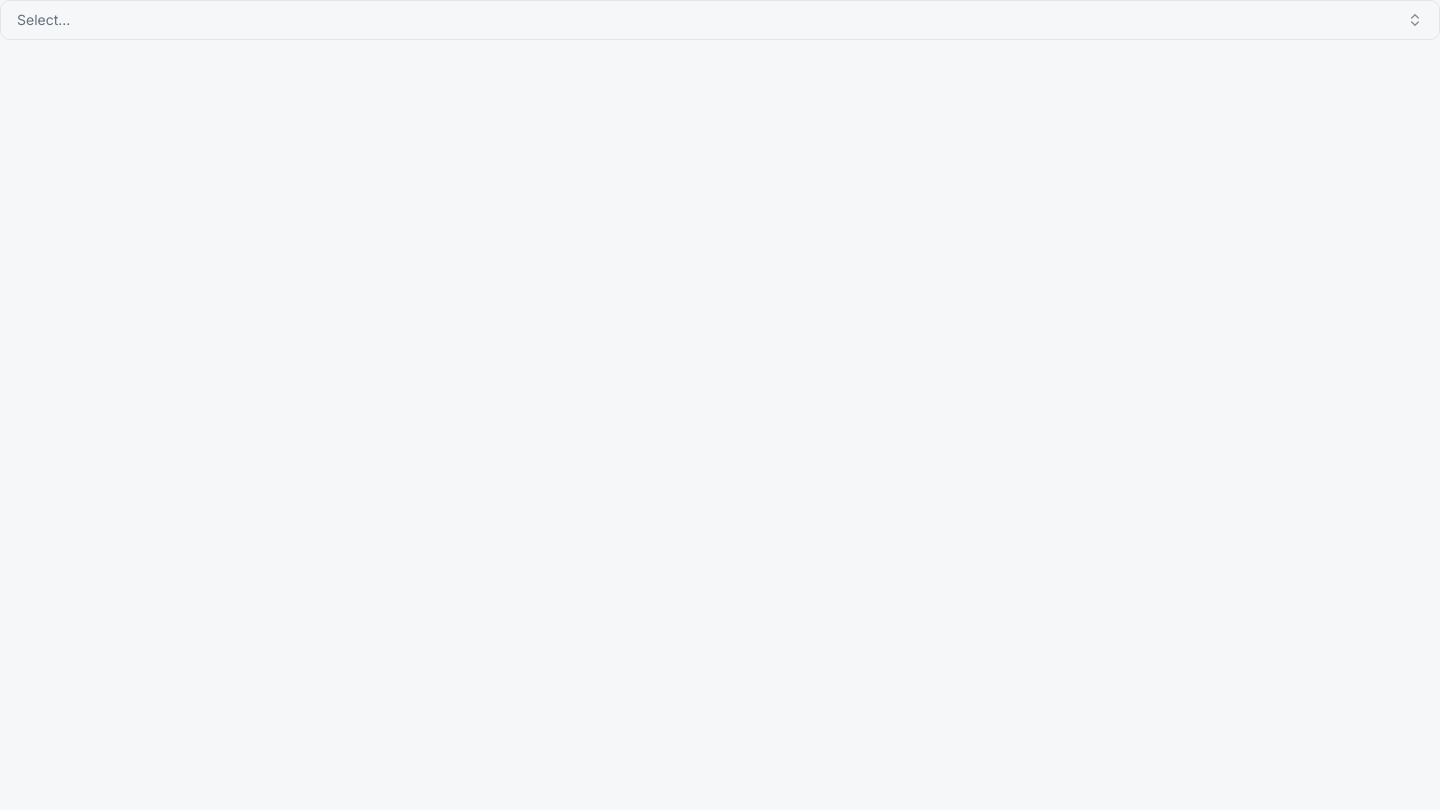
Combobox in server-search mode › puts the keep-typing hint under the input when the page is full
The image size is (1440, 810).
Click the dropdown at coordinates (44, 20), box x1=0 y1=0 x2=1439 y2=40
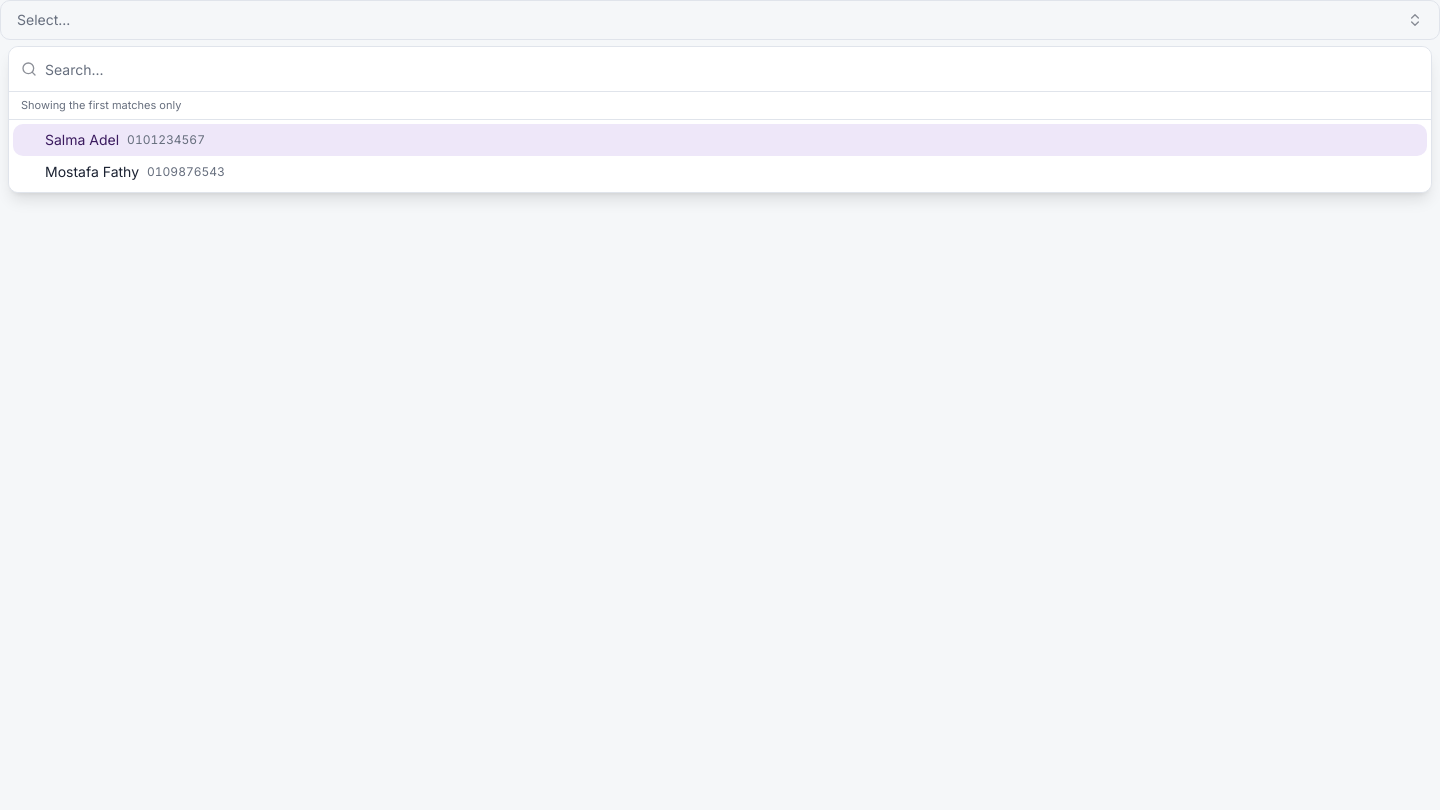
Result: the text "Showing the first matches only" is shown at x1=9 y1=92 x2=1431 y2=120
